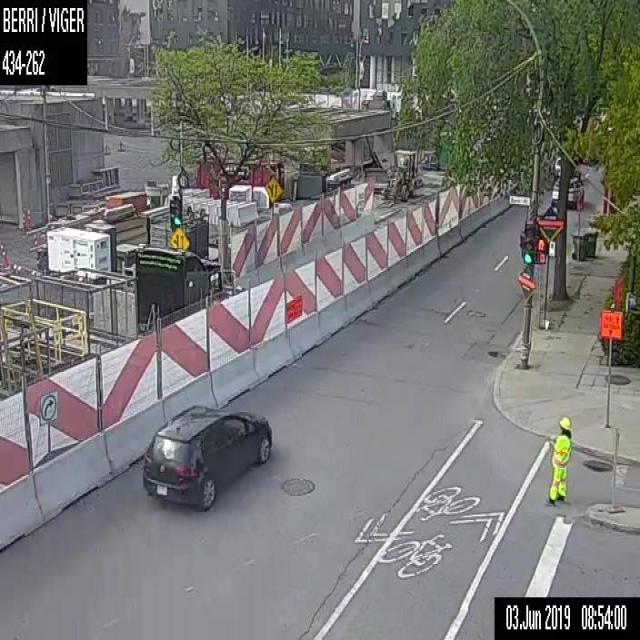construction: (601, 311, 622, 429)
pedestrian: (545, 416, 571, 505)
vehicle: (141, 403, 272, 508), (550, 176, 584, 206)
